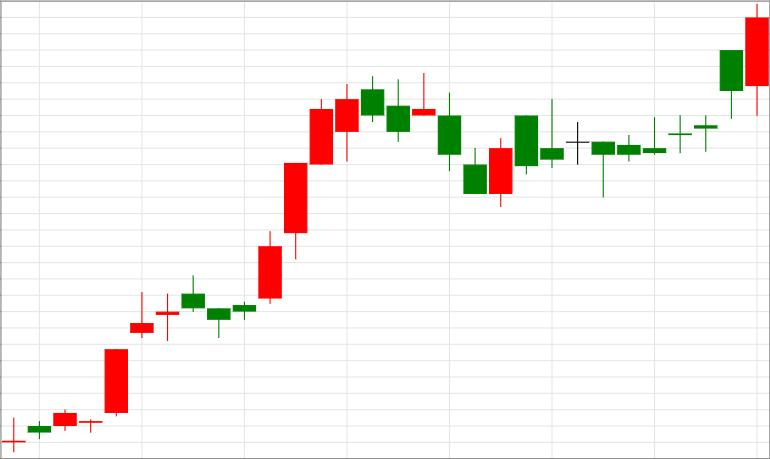bullish_engulfing_rise: (361, 74, 512, 206)
